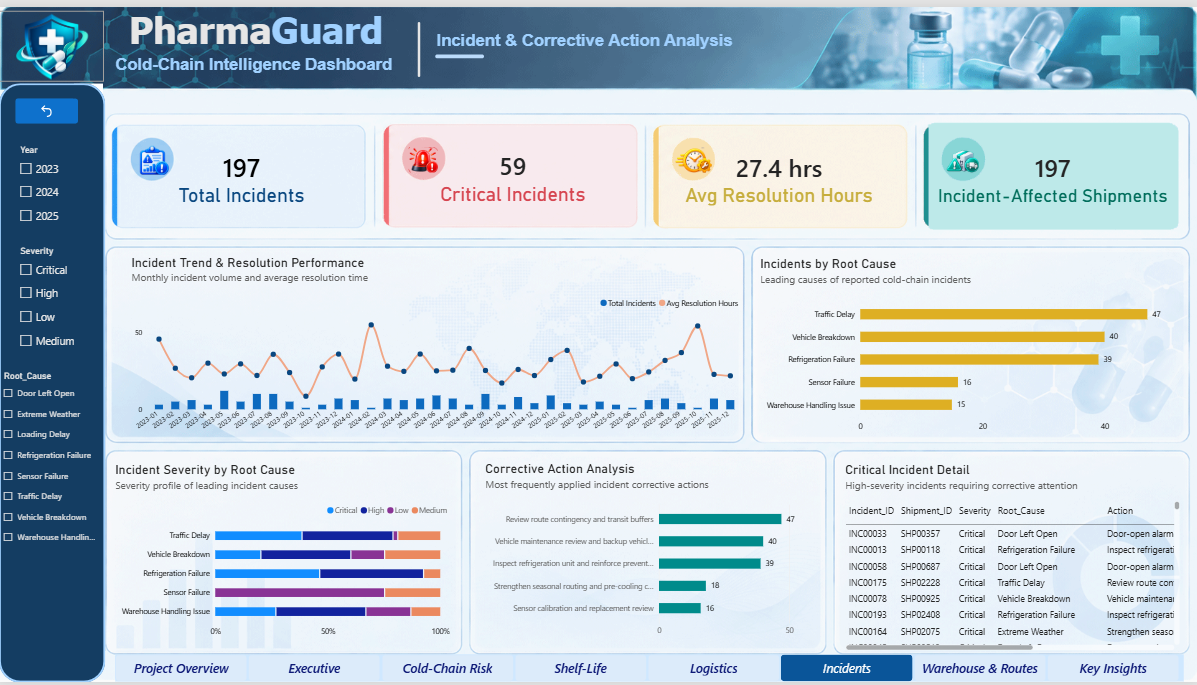

The page's visual inventory and layout, read from the dashboard file:
{"tool":"powerbi","page":{"name":"Incidents","canvas":[1920,1080],"ordinal":5},"visuals":[{"type":"textbox","box":[207.8,0,510.7,75.7],"z":0},{"type":"textbox","box":[186.1,75.7,484.8,71.4],"z":1000},{"type":"shape","box":[582,24,180,88],"z":2000},{"type":"textbox","box":[150,597,300,300],"z":3000},{"type":"textbox","box":[699,39,549.7,36.8],"z":4000},{"type":"image","box":[0,6,168,114],"z":5000},{"type":"shape","box":[698,38,78,82],"z":6000},{"type":"shape","box":[0,121.2,170,958.8],"z":7000},{"type":"image","box":[221.9,221.2,53.8,46.2],"z":8000},{"type":"image","box":[1082.5,220.6,58.1,50.6],"z":9000},{"type":"image","box":[1513.2,227.9,55.6,38.8],"z":10000},{"type":"cardVisual","title":"Total Shipments","fields":{"Data":["_Measures.Critical Incidents"]},"box":[622,193,400,158],"z":11000},{"type":"cardVisual","title":"Total Shipments","fields":{"Data":["_Measures.Avg Resolution Hours"]},"box":[1046.2,196.2,404.7,158],"z":12000},{"type":"cardVisual","title":"Total Shipments","fields":{"Data":["_Measures.Incident-Affected Shipments"]},"box":[1484.2,196.3,404.7,158],"z":13000},{"type":"slicer","fields":{"Values":["Dim_Date.Year"]},"box":[25.7,220,109.1,183.6],"z":14000},{"type":"lineClusteredColumnComboChart","title":"Incident Trend & Resolution Performance","fields":{"Category":["Dim_Date.Year_Month"],"Y":["_Measures.Total Incidents"],"Y2":["_Measures.Avg Resolution Hours"]},"box":[195.7,381.4,1007.1,315.7],"z":15000},{"type":"clusteredBarChart","title":"Incidents by Root Cause","fields":{"Category":["Incidents.Root_Cause"],"Y":["_Measures.Total Incidents"]},"box":[1201.1,383.3,687.7,316.7],"z":16000},{"type":"hundredPercentStackedBarChart","title":"Incident Severity by Root Cause","fields":{"Category":["Incidents.Root_Cause"],"Y":["_Measures.Total Incidents"],"Series":["Incidents.Severity"]},"box":[171,714.2,567,313.8],"z":17000},{"type":"clusteredBarChart","title":"Corrective Action Analysis","fields":{"Category":["Incidents.Corrective_Action"],"Y":["_Measures.Total Incidents"]},"box":[762.5,712.5,567,313.8],"z":18000},{"type":"image","box":[651.9,224.4,53.8,40.6],"z":19000},{"type":"cardVisual","title":"Total Shipments","fields":{"Data":["_Measures.Total Incidents"]},"box":[186.2,193.1,404,161],"z":20000},{"type":"tableEx","title":"Critical Incident Detail","fields":{"Values":["Incidents.Incident_ID","Shipments.Shipment_ID","Incidents.Severity","Incidents.Root_Cause","Incidents.Corrective_Action","Sum(Incidents.Resolution_Hours)"]},"box":[1337.8,714.4,567,331.1],"z":21000},{"type":"slicer","fields":{"Values":["Incidents.Severity"]},"box":[25.7,381.4,109.1,183.6],"z":22000},{"type":"slicer","fields":{"Values":["Incidents.Root_Cause"]},"box":[0,581.4,158.8,332.5],"z":23000},{"type":"pageNavigator","box":[186.1,1036.6,1709.7,43.3],"z":24000},{"type":"actionButton","box":[25,146.7,100.6,40.8],"z":25000}]}

Visuals, with their boxes on the page's 1920x1080 design canvas (x1, y1, x2, y2). These are canvas units, not pixel positions in the 1197x685 screenshot, which may show the page scaled, cropped or inside an application window:
textbox: Rect(208, 0, 718, 76)
textbox: Rect(186, 76, 671, 147)
shape: Rect(582, 24, 762, 112)
textbox: Rect(150, 597, 450, 897)
textbox: Rect(699, 39, 1249, 76)
image: Rect(0, 6, 168, 120)
shape: Rect(698, 38, 776, 120)
shape: Rect(0, 121, 170, 1080)
image: Rect(222, 221, 276, 267)
image: Rect(1082, 221, 1141, 271)
image: Rect(1513, 228, 1569, 267)
"Total Shipments" cardVisual: Rect(622, 193, 1022, 351)
"Total Shipments" cardVisual: Rect(1046, 196, 1451, 354)
"Total Shipments" cardVisual: Rect(1484, 196, 1889, 354)
slicer - Dim_Date.Year: Rect(26, 220, 135, 404)
"Incident Trend & Resolution Performance" lineClusteredColumnComboChart: Rect(196, 381, 1203, 697)
"Incidents by Root Cause" clusteredBarChart: Rect(1201, 383, 1889, 700)
"Incident Severity by Root Cause" hundredPercentStackedBarChart: Rect(171, 714, 738, 1028)
"Corrective Action Analysis" clusteredBarChart: Rect(762, 712, 1330, 1026)
image: Rect(652, 224, 706, 265)
"Total Shipments" cardVisual: Rect(186, 193, 590, 354)
"Critical Incident Detail" tableEx: Rect(1338, 714, 1905, 1046)
slicer - Incidents.Severity: Rect(26, 381, 135, 565)
slicer - Incidents.Root_Cause: Rect(0, 581, 159, 914)
pageNavigator: Rect(186, 1037, 1896, 1080)
actionButton: Rect(25, 147, 126, 188)
